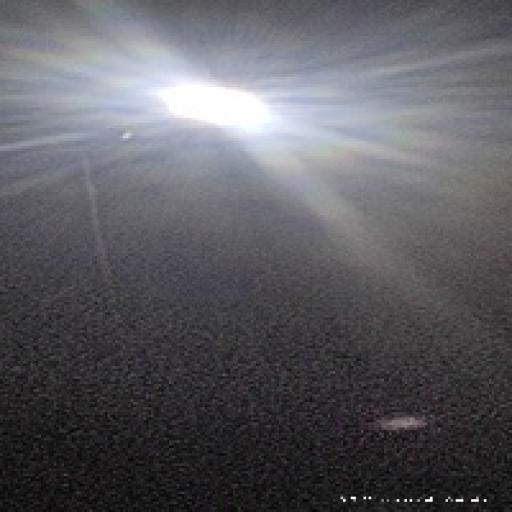Working: (143, 68, 291, 149)
